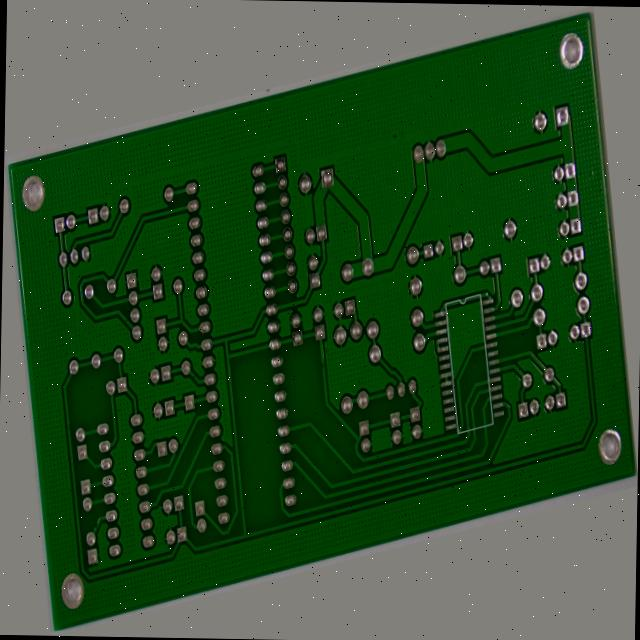mouse_bite: (54, 497, 62, 516), (175, 341, 183, 356), (313, 370, 320, 386)
